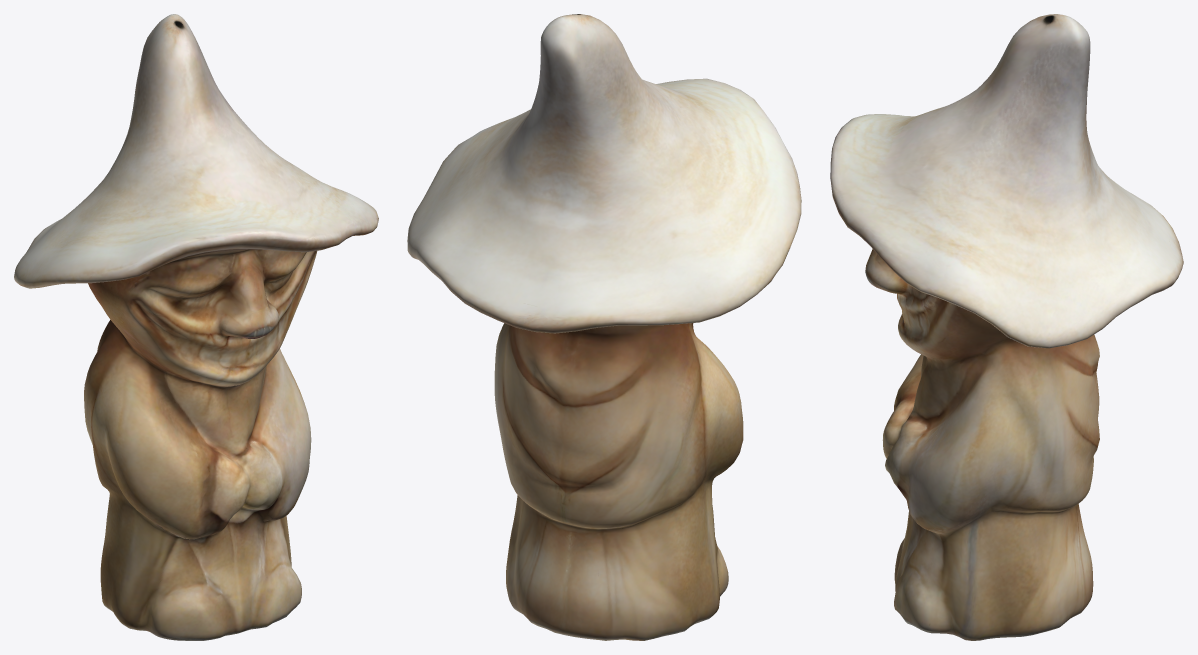
Rendered from Mischievous_Gnome_0321003136_texture.fbx.
The picture shows the model from 3 angles, left to right: view 1: azimuth 30°, elevation 25°; view 2: azimuth 150°, elevation 25°; view 3: azimuth 270°, elevation 25°; orthographic projection. The views are drawn at different scales.
Parts seen in each view (by area): view 1: Mesh1; view 2: Mesh1; view 3: Mesh1.
Boxes of the visible parts, x1,y1,x2,y2 form: Mesh1: [14, 14, 378, 640]; Mesh1: [407, 14, 801, 640]; Mesh1: [830, 14, 1183, 640].
Size of the model in its own units: 121 by 200 by 108.
Materials: 1 (1 with a texture image).
